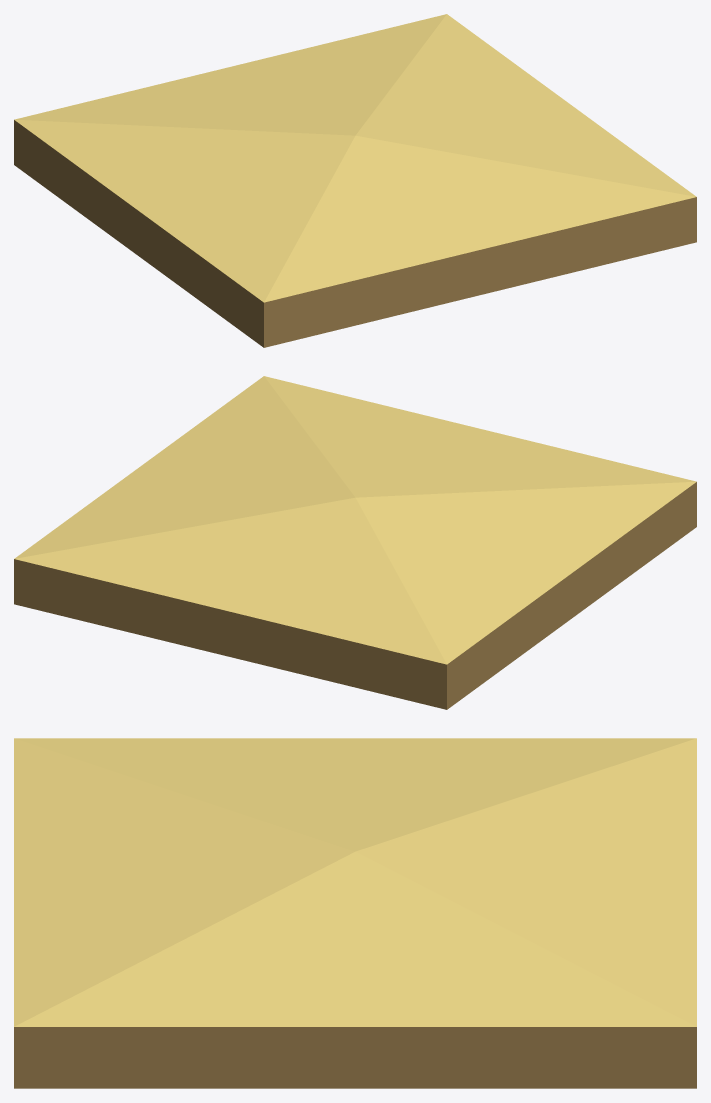
Rendered from Terrain_Modular_Tiles_Sand_Dirt_Lump_01.fbx.
The picture shows the model from 3 angles, top to bottom: view 1: azimuth 30°, elevation 25°; view 2: azimuth 150°, elevation 25°; view 3: azimuth 270°, elevation 25°; orthographic projection. The views are drawn at different scales.
Parts seen in each view (by area): view 1: Terrain_Modular_Tiles_Sand_Dirt_Lump_01; view 2: Terrain_Modular_Tiles_Sand_Dirt_Lump_01; view 3: Terrain_Modular_Tiles_Sand_Dirt_Lump_01.
Part boxes in pixels (x1=…): Terrain_Modular_Tiles_Sand_Dirt_Lump_01: x1=14, y1=14, x2=696, y2=347; Terrain_Modular_Tiles_Sand_Dirt_Lump_01: x1=14, y1=376, x2=696, y2=709; Terrain_Modular_Tiles_Sand_Dirt_Lump_01: x1=14, y1=738, x2=696, y2=1088.
Size of the model in its own units: 118 by 17.72 by 118.
